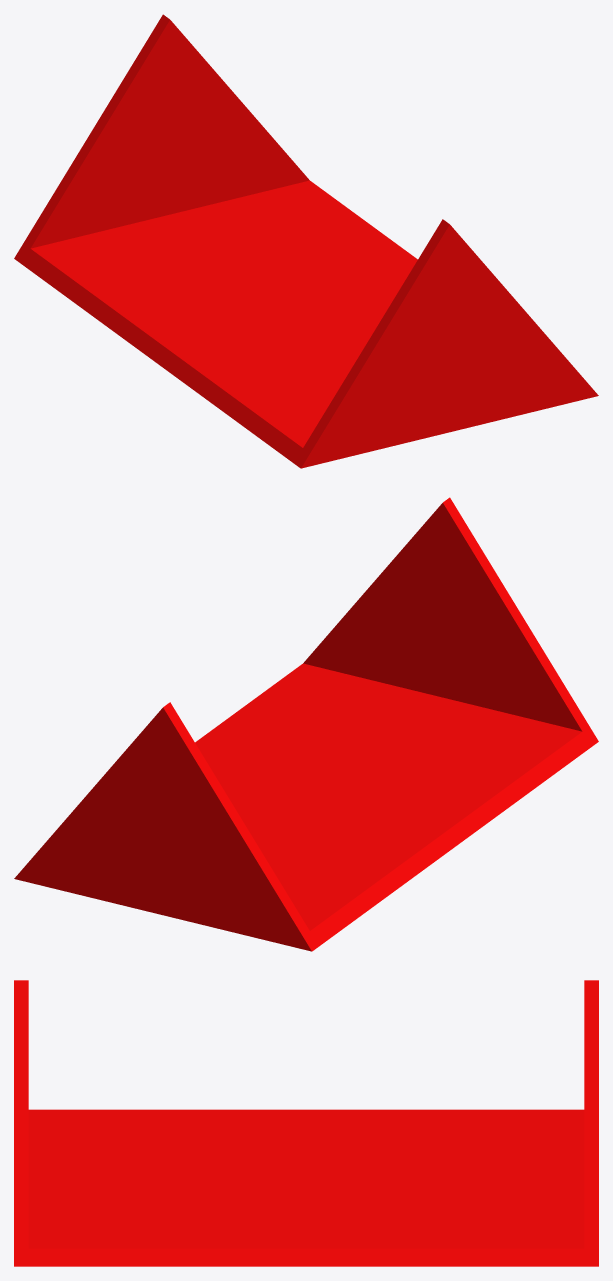
3 renders of one model, top to bottom at view 1: azimuth 30°, elevation 25°; view 2: azimuth 150°, elevation 25°; view 3: azimuth 270°, elevation 25°, orthographic.
Visible parts, largest first — view 1: ROOT-LINK_link; view 2: ROOT-LINK_link; view 3: ROOT-LINK_link.
Part boxes in pixels (x1,y1,x2,y2): ROOT-LINK_link: (14, 14, 598, 468); ROOT-LINK_link: (14, 497, 598, 951); ROOT-LINK_link: (14, 980, 598, 1266).
Bounding box in the file's own units: 0.12 × 0.08 × 0.2.
